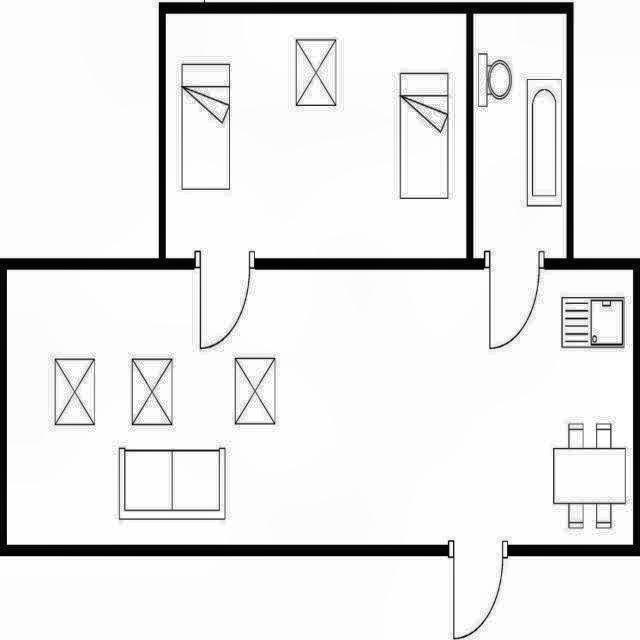room: (7, 270, 633, 545), (166, 14, 467, 258), (474, 14, 566, 258)
